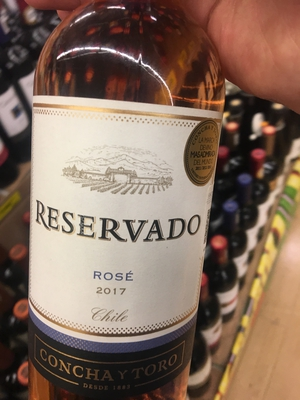reservado rose: (30, 12, 217, 400)
